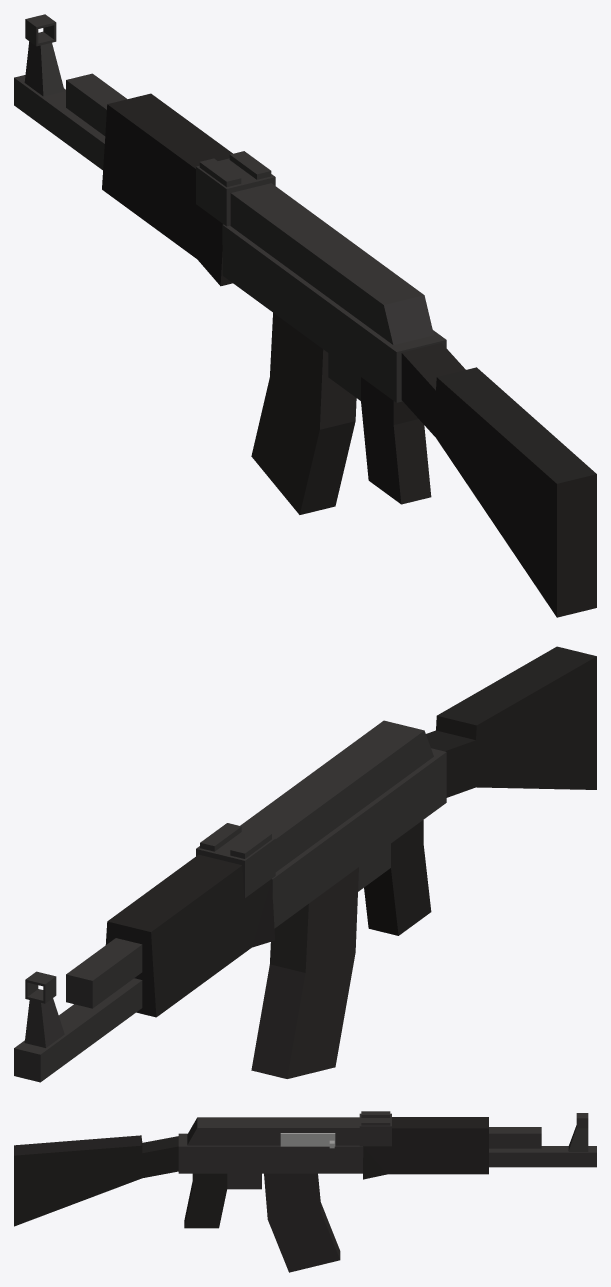
File: AutoRifle47.FBX
3 views of the same model, one above another, from view 1: azimuth 30°, elevation 25°; view 2: azimuth 150°, elevation 25°; view 3: azimuth 270°, elevation 25° (orthographic). The views are drawn at different scales.
Parts seen in each view (by area): view 1: AutoRifle47, AutoRifle47mag; view 2: AutoRifle47, AutoRifle47mag; view 3: AutoRifle47, AutoRifle47mag.
Boxes of the visible parts, x1,y1,x2,y2 form: AutoRifle47: (14, 14, 596, 617); AutoRifle47mag: (251, 313, 356, 514); AutoRifle47: (14, 646, 596, 1082); AutoRifle47mag: (251, 867, 358, 1078); AutoRifle47: (14, 1111, 596, 1228); AutoRifle47mag: (264, 1173, 340, 1272).
Bounding box in the file's own units: 14.37 × 215 × 62.13.
